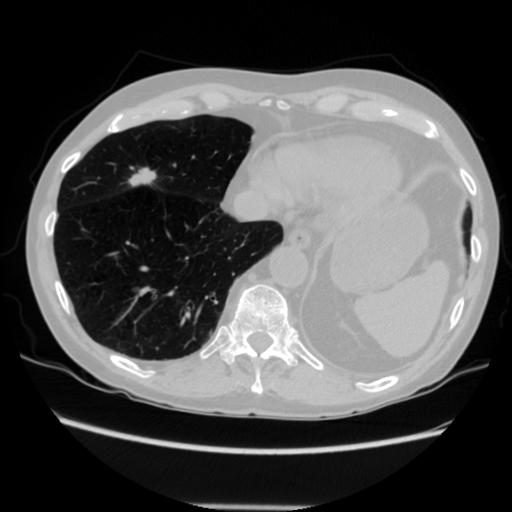nodule: (130, 163, 157, 190)
